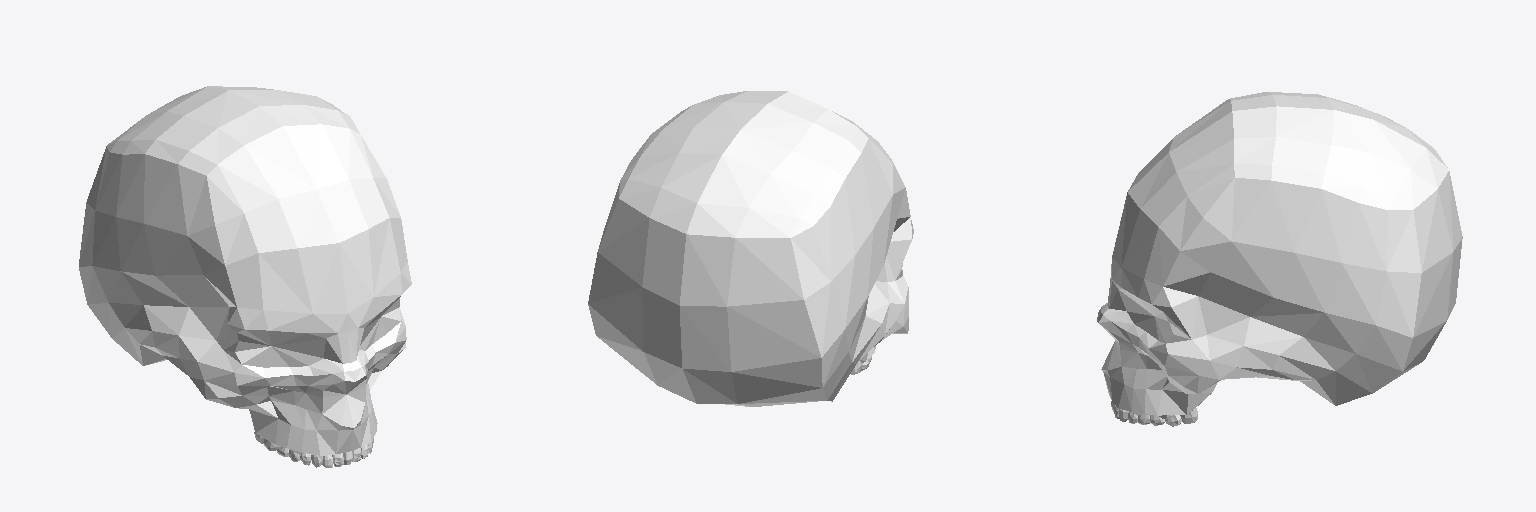
The model's file is Craneo_Pirata.obj.
3 renders of one model, left to right at view 1: azimuth 30°, elevation 25°; view 2: azimuth 150°, elevation 25°; view 3: azimuth 270°, elevation 25°, orthographic.
Visible parts, largest first — view 1: Craneo, Dientes; view 2: Craneo; view 3: Craneo, Dientes.
Boxes of the visible parts, box(x1,y1,x2,y2) form: Craneo: box(79, 86, 411, 455); Dientes: box(254, 432, 373, 467); Craneo: box(588, 91, 913, 406); Craneo: box(1097, 92, 1462, 418); Dientes: box(1111, 401, 1197, 426).
Size of the model in its own units: 39.33 by 47.01 by 51.71.